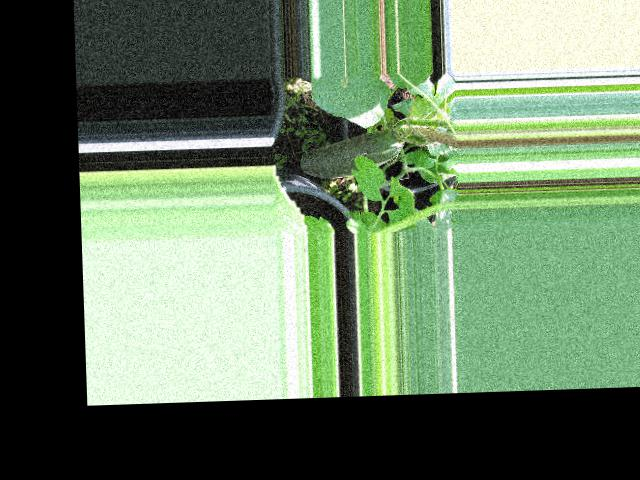cucumber: (299, 129, 404, 179)
